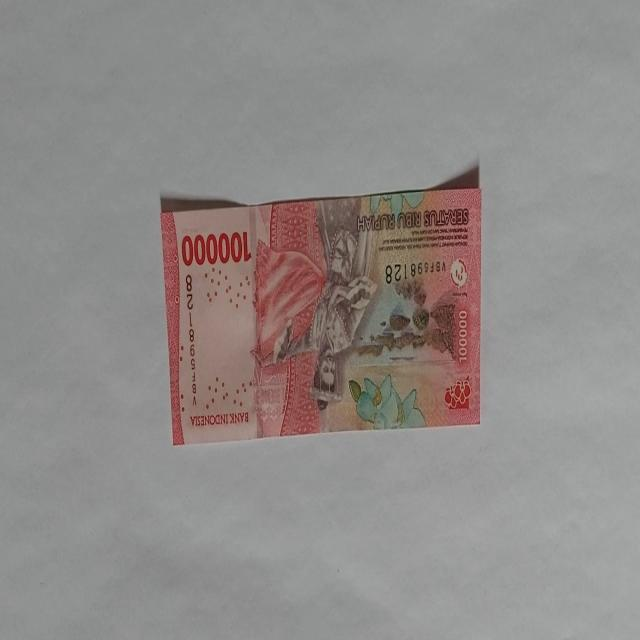seratus ribu rupiah: (160, 184, 482, 446), (251, 204, 379, 432)
